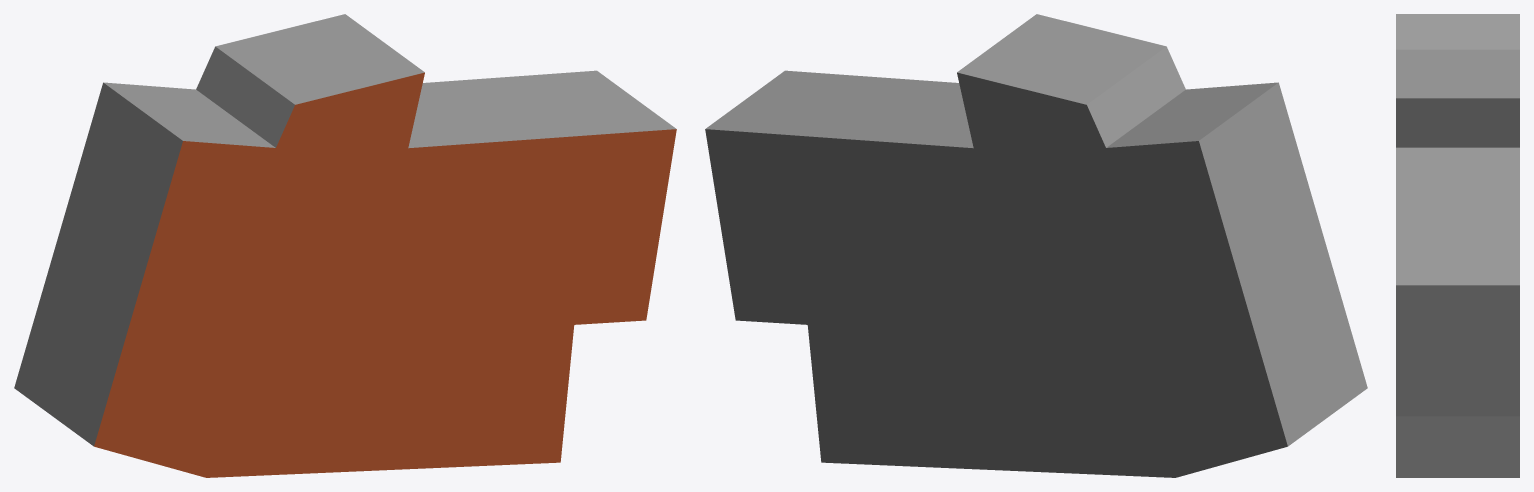
Rendered from construction_0559_assumed_A_Casa_h6m.obj.
The picture shows the model from 3 angles, left to right: view 1: azimuth 30°, elevation 25°; view 2: azimuth 150°, elevation 25°; view 3: azimuth 270°, elevation 25°; orthographic projection. The views are drawn at different scales.
Visible parts, largest first — view 1: construction_0559_assumed_A_Casa; view 2: construction_0559_assumed_A_Casa; view 3: construction_0559_assumed_A_Casa.
Boxes of the visible parts, bbox=[...] form: construction_0559_assumed_A_Casa: bbox=[14, 14, 676, 477]; construction_0559_assumed_A_Casa: bbox=[705, 14, 1367, 477]; construction_0559_assumed_A_Casa: bbox=[1396, 14, 1519, 477].
Size of the model in its own units: 25.27 by 17.54 by 6.
